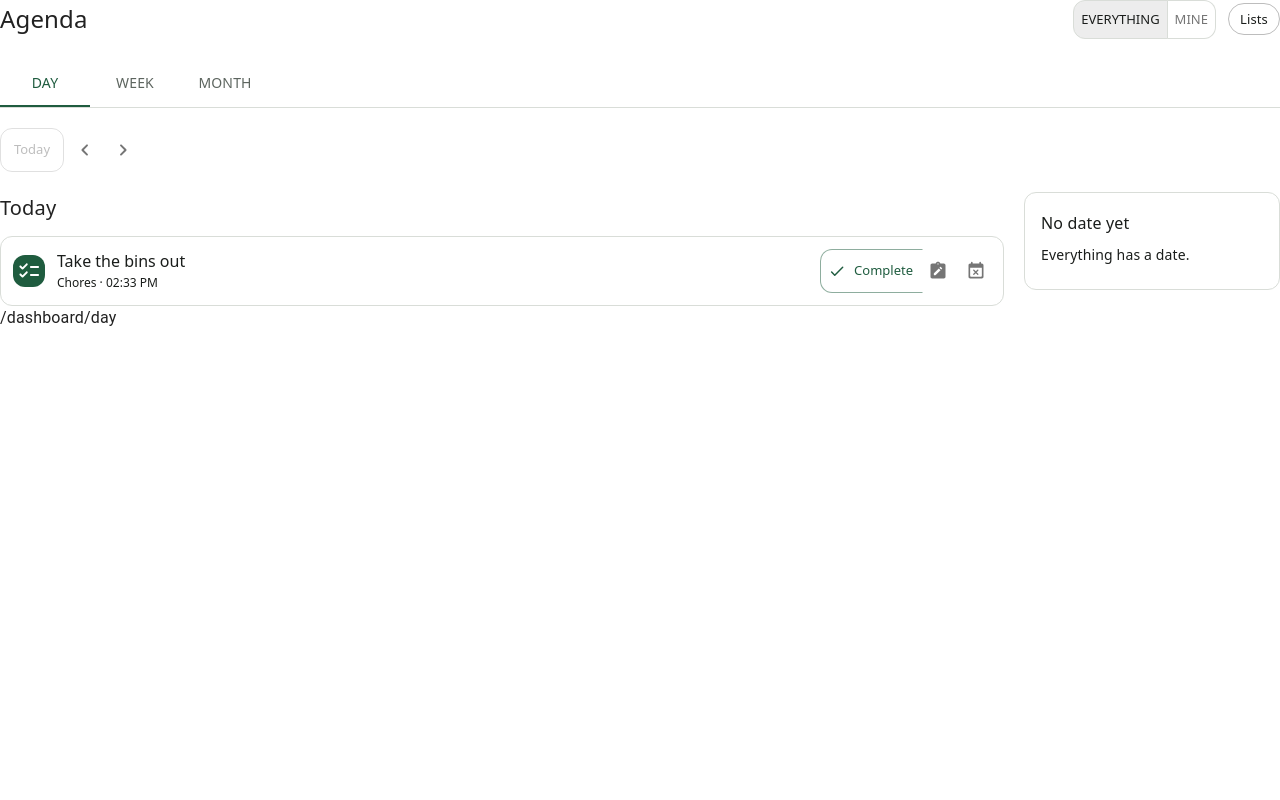
Test case: DashboardPage › opens the popup from a day cell without a second request
The width and height of the screenshot is (1280, 800).
Click the button with aria-label "Take the bins out, on Chores" at [121, 261], box [53,249,812,293]
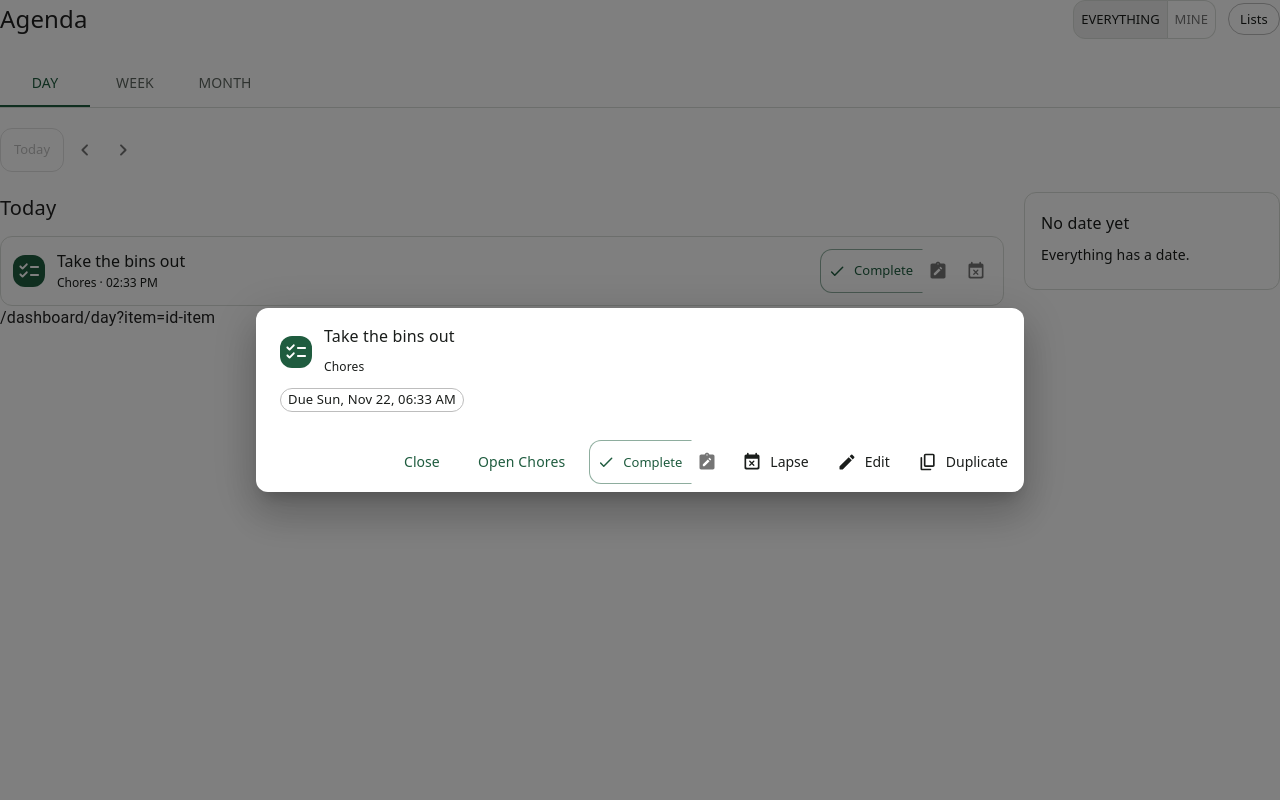
Expected: the dialog is shown, [256,308,1024,492]
